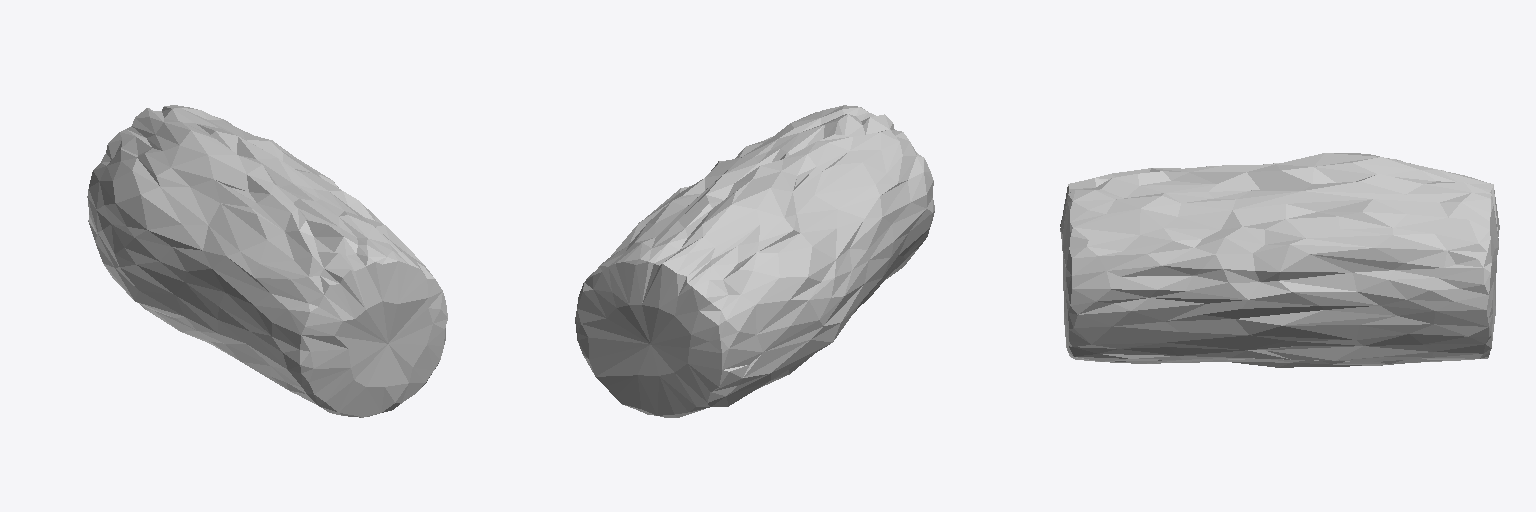
The model's file is tora.obj.
The picture shows the model from 3 angles: view 1: azimuth 30°, elevation 25°; view 2: azimuth 150°, elevation 25°; view 3: azimuth 270°, elevation 25°; orthographic projection.
Parts seen in each view (by area): view 1: wood_low; view 2: wood_low; view 3: wood_low.
Part boxes in pixels (x1,y1,x2,y2): wood_low: (87, 105, 447, 417); wood_low: (575, 105, 934, 417); wood_low: (1060, 153, 1499, 367).
Bounding box in the file's own units: 2.71 × 2.43 × 5.26.